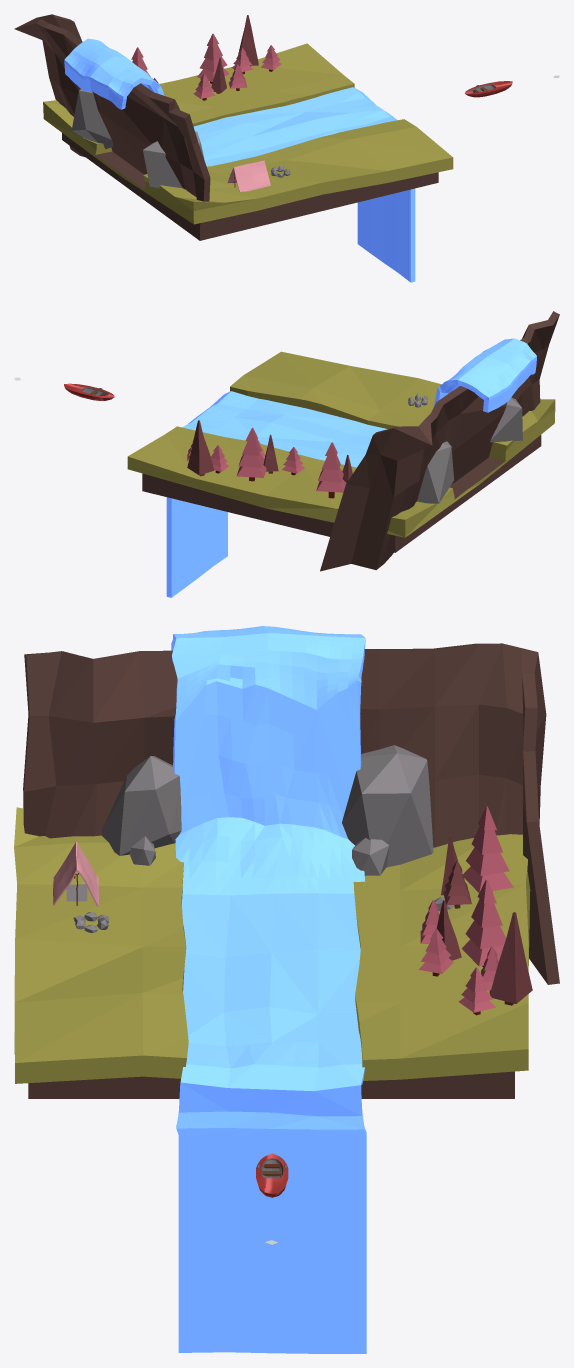
The model's file is waterfallV3.1.glb.
3 views of the same model, one above another, from view 1: azimuth 30°, elevation 25°; view 2: azimuth 150°, elevation 25°; view 3: azimuth 270°, elevation 25° (orthographic). The views are drawn at different scales.
Parts seen in each view (by area): view 1: Flor, River, Cliff, Roc 2.001, Roc 2, Plan, Arbre 2.008, Arbre 1.002, Boat; view 2: Flor, River, Cliff, Roc 2.001, Roc 2, Arbre 2.007, Arbre 2.008, Arbre 1.002, Boat, Arbre 2; view 3: River, Flor, Cliff, Roc 2.001, Roc 2, Arbre 2.007, Arbre 1.002, Arbre 2.008, Roc, Boat, Arbre 2.006, Arbre 2.002.
Boxes of the visible parts, bbox=[...] form: Flor: bbox=[43, 43, 453, 240]; River: bbox=[64, 38, 415, 282]; Cliff: bbox=[14, 14, 210, 201]; Roc 2.001: bbox=[71, 88, 113, 149]; Roc 2: bbox=[143, 131, 204, 188]; Plan: bbox=[233, 160, 270, 191]; Arbre 2.008: bbox=[197, 33, 229, 83]; Arbre 1.002: bbox=[238, 15, 258, 66]; Boat: bbox=[464, 81, 512, 97]; Flor: bbox=[127, 351, 555, 552]; River: bbox=[166, 338, 536, 597]; Cliff: bbox=[320, 311, 559, 571]; Roc 2.001: bbox=[417, 441, 453, 503]; Roc 2: bbox=[490, 397, 522, 442]; Arbre 2.007: bbox=[316, 442, 346, 498]; Arbre 2.008: bbox=[237, 427, 266, 481]; Arbre 1.002: bbox=[187, 420, 214, 476]; Boat: bbox=[64, 383, 114, 400]; Arbre 2: bbox=[282, 447, 304, 475]; River: bbox=[171, 626, 366, 1353]; Flor: bbox=[14, 807, 530, 1098]; Cliff: bbox=[23, 643, 559, 984]; Roc 2.001: bbox=[342, 745, 433, 867]; Roc 2: bbox=[101, 756, 181, 855]; Arbre 2.007: bbox=[463, 806, 513, 892]; Arbre 1.002: bbox=[490, 912, 532, 1005]; Arbre 2.008: bbox=[462, 879, 506, 967]; Roc: bbox=[352, 838, 389, 875]; Boat: bbox=[256, 1153, 288, 1197]; Arbre 2.006: bbox=[458, 967, 495, 1015]; Arbre 2.002: bbox=[418, 928, 453, 976].
Bounding box in the file's own units: 15.45 × 8.55 × 8.75.
Materials: 22 (1 with a texture image).
